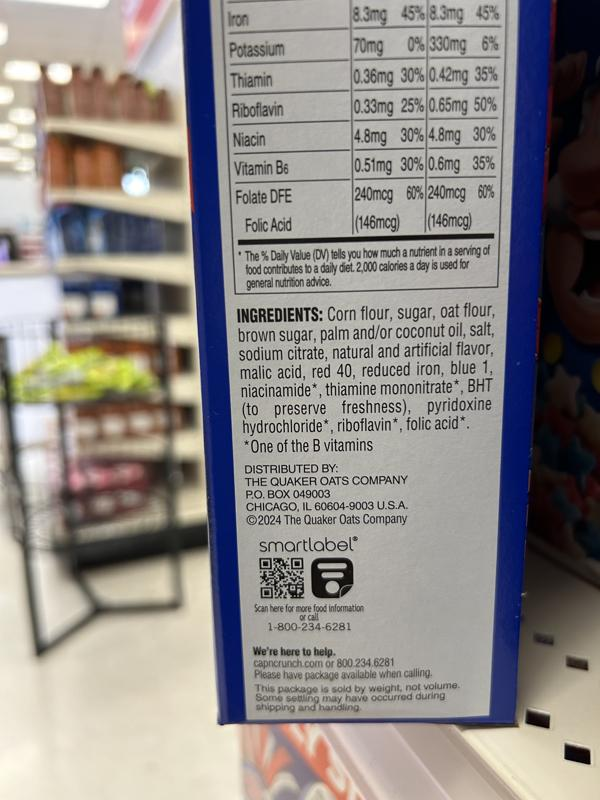ingredients: (235, 301, 494, 435)
